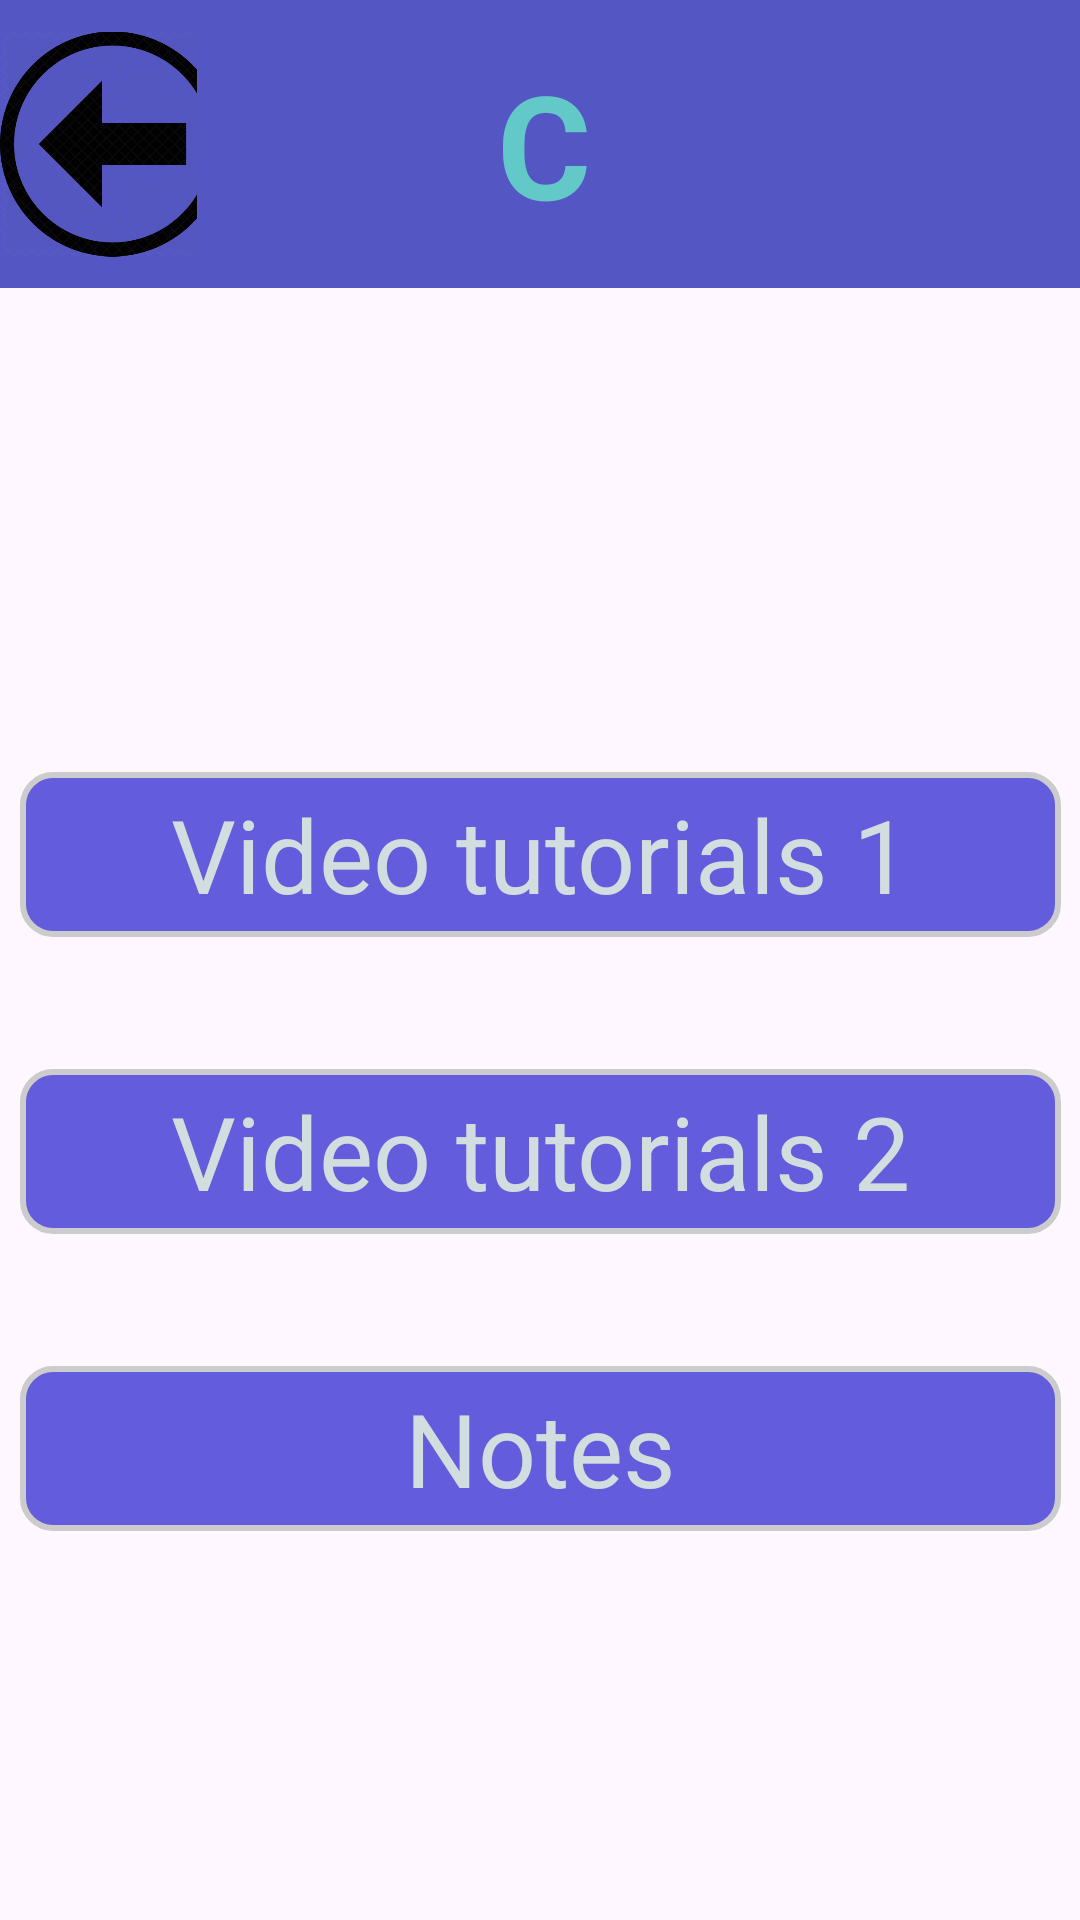

Locate icon controls on the screen. Image size 1080 x 1920, boxes as (x1, y1, x2, y2).
back: (0, 32, 197, 257)
